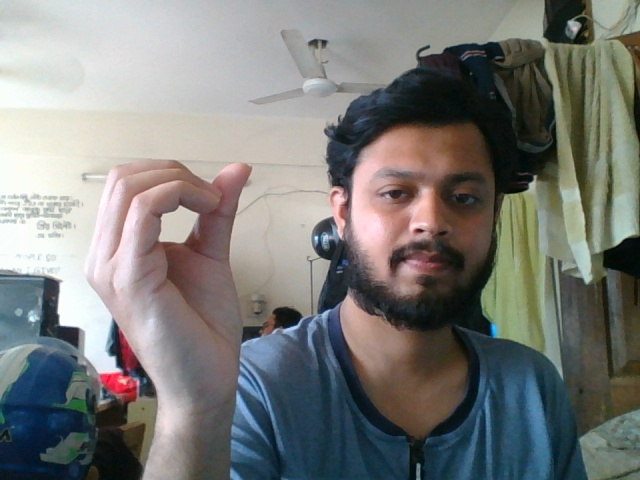ae: (81, 150, 259, 475)
